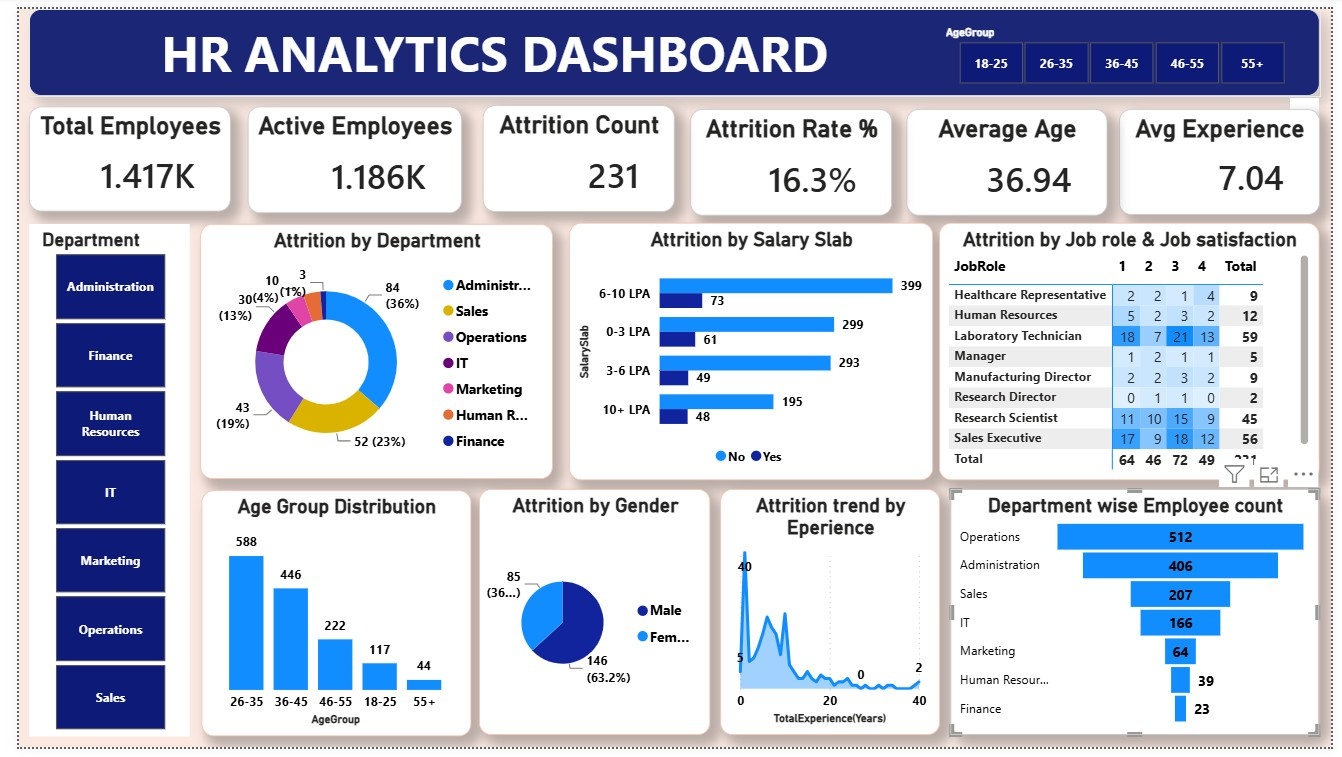

The page's visual inventory and layout, read from the dashboard file:
{"tool":"powerbi","page":{"name":"Page 1","canvas":[1280,720],"ordinal":0},"visuals":[{"type":"textbox","box":[10,0,1259,85],"z":0},{"type":"cardVisual","title":"Total Employees","fields":{"Data":["CountNonNull(HR_Analytics-4.EmpID)"]},"box":[9.8,95.7,197,102.7],"z":1000},{"type":"cardVisual","title":"Avg Experience","fields":{"Data":["Avg(HR_Analytics-4.YearsatCompany)"]},"box":[1072.9,97.1,195.7,102.9],"z":2000},{"type":"cardVisual","title":"Average Age","fields":{"Data":["Avg(HR_Analytics-4.Age)"]},"box":[865.7,97.1,195.7,104.3],"z":3000},{"type":"cardVisual","title":"Attrition Rate %","fields":{"Data":["HR_Analytics-4.Attrition Rate %"]},"box":[654.3,97.1,197.1,104.3],"z":4000},{"type":"cardVisual","title":"Attrition Count","fields":{"Data":["Sum(HR_Analytics-4.AttritionCount)"]},"box":[452.9,94.3,187.1,104.3],"z":5000},{"type":"cardVisual","title":"Active Employees","fields":{"Data":["CountNonNull(HR_Analytics-4.EmployeeCount)"]},"box":[222.9,95.7,208.6,104.3],"z":6000},{"type":"donutChart","title":"Attrition by Department","fields":{"Category":["HR_Analytics-4.Department"],"Y":["Sum(HR_Analytics-4.AttritionCount)"]},"box":[177.1,210,344.3,248.6],"z":7000},{"type":"clusteredBarChart","title":"Attrition by Salary Slab","fields":{"Category":["HR_Analytics-4.SalarySlab"],"Y":["CountNonNull(HR_Analytics-4.EmpID)"],"Series":["HR_Analytics-4.Attrition"]},"box":[537,209,355,251],"z":8000},{"type":"pivotTable","title":"Attrition by Job role & Job satisfaction","fields":{"Rows":["HR_Analytics-4.JobRole"],"Values":["Sum(HR_Analytics-4.AttritionCount)"],"Columns":["HR_Analytics-4.JobSatisfaction"]},"box":[898,209,371,251],"z":9000},{"type":"columnChart","title":"Age Group Distribution ","fields":{"Category":["HR_Analytics-4.AgeGroup"],"Y":["Sum(HR_Analytics-4.EmployeeCount)"]},"box":[178.6,470,262.9,240],"z":10000},{"type":"pieChart","title":" Attrition by Gender","fields":{"Category":["HR_Analytics-4.Gender"],"Y":["Sum(HR_Analytics-4.AttritionCount)"]},"box":[448.6,468.6,225.7,240],"z":11000},{"type":"areaChart","title":"Attrition trend by Eperience","fields":{"Y2":["Sum(HR_Analytics-4.AttritionCount)"],"Category":["HR_Analytics-4.TotalExperience(Years)"]},"box":[684.3,468.6,214.3,240],"z":12000},{"type":"funnel","title":" Department wise Employee count","fields":{"Y":["CountNonNull(HR_Analytics-4.EmpID)"],"Category":["HR_Analytics-4.Department"]},"box":[908.6,468.6,360,240],"z":13000},{"type":"slicer","fields":{"Values":["HR_Analytics-4.Department"]},"box":[10,210,157.1,500],"z":14000},{"type":"slicer","fields":{"Values":["HR_Analytics-4.AgeGroup"]},"box":[891.4,11.4,367.1,68.6],"z":15000}]}

Visuals, with their boxes in screenshot pixels (x1, y1, x2, y2), scaled from the page's 1280x720 canvas onto the 1342x757 screenshot:
textbox: box(10, 0, 1330, 89)
"Total Employees" cardVisual: box(10, 101, 217, 209)
"Avg Experience" cardVisual: box(1125, 102, 1330, 210)
"Average Age" cardVisual: box(908, 102, 1113, 212)
"Attrition Rate %" cardVisual: box(686, 102, 893, 212)
"Attrition Count" cardVisual: box(475, 99, 671, 209)
"Active Employees" cardVisual: box(234, 101, 452, 210)
"Attrition by Department" donutChart: box(186, 221, 547, 482)
"Attrition by Salary Slab" clusteredBarChart: box(563, 220, 935, 484)
"Attrition by Job role & Job satisfaction" pivotTable: box(941, 220, 1330, 484)
"Age Group Distribution " columnChart: box(187, 494, 463, 746)
" Attrition by Gender" pieChart: box(470, 493, 707, 745)
"Attrition trend by Eperience" areaChart: box(717, 493, 942, 745)
" Department wise Employee count" funnel: box(953, 493, 1330, 745)
slicer - HR_Analytics-4.Department: box(10, 221, 175, 746)
slicer - HR_Analytics-4.AgeGroup: box(935, 12, 1319, 84)
